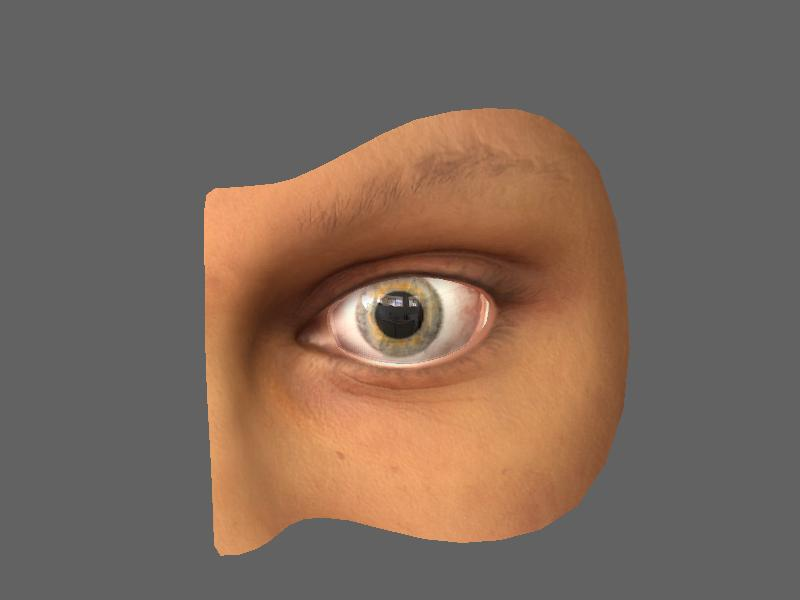iris: (351, 282, 448, 359)
